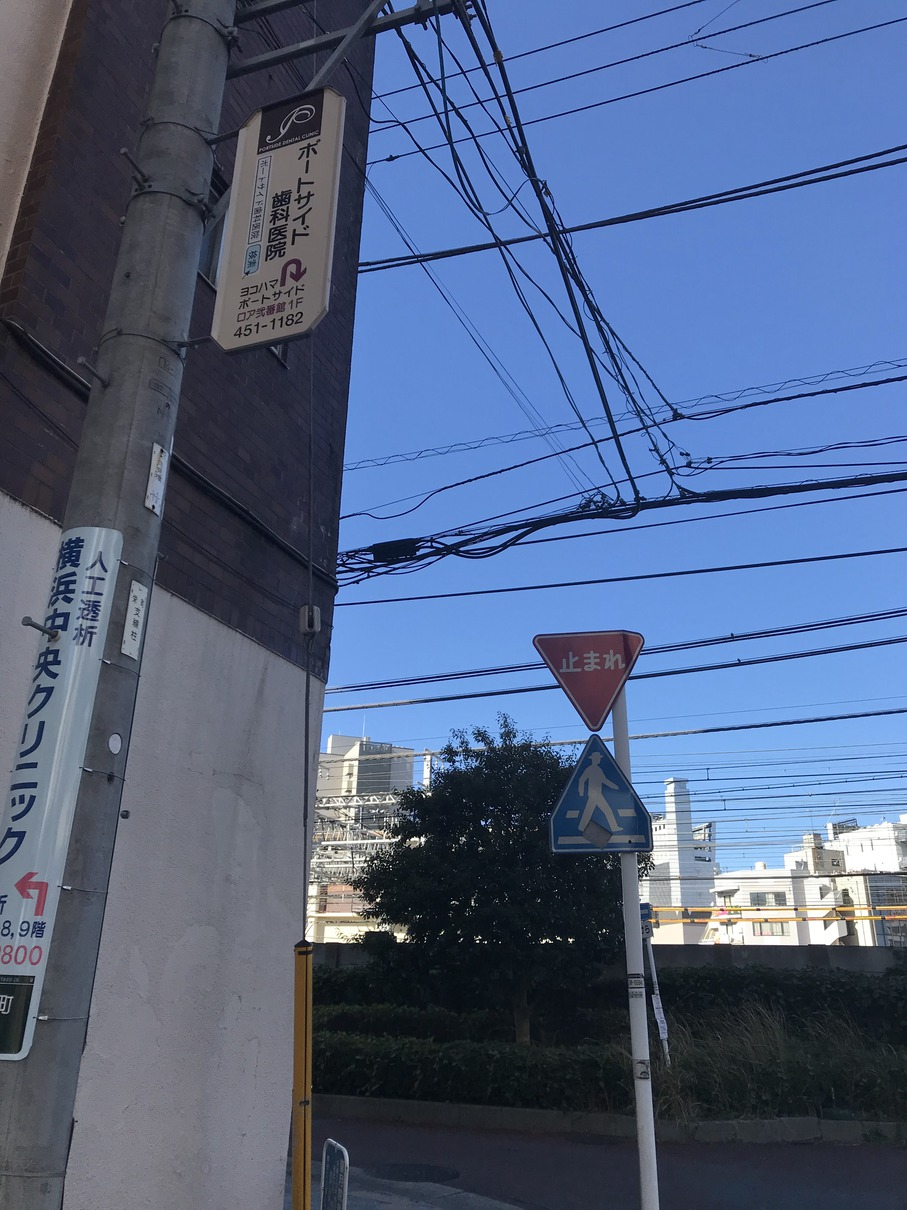stop_sign: (530, 625, 645, 732)
